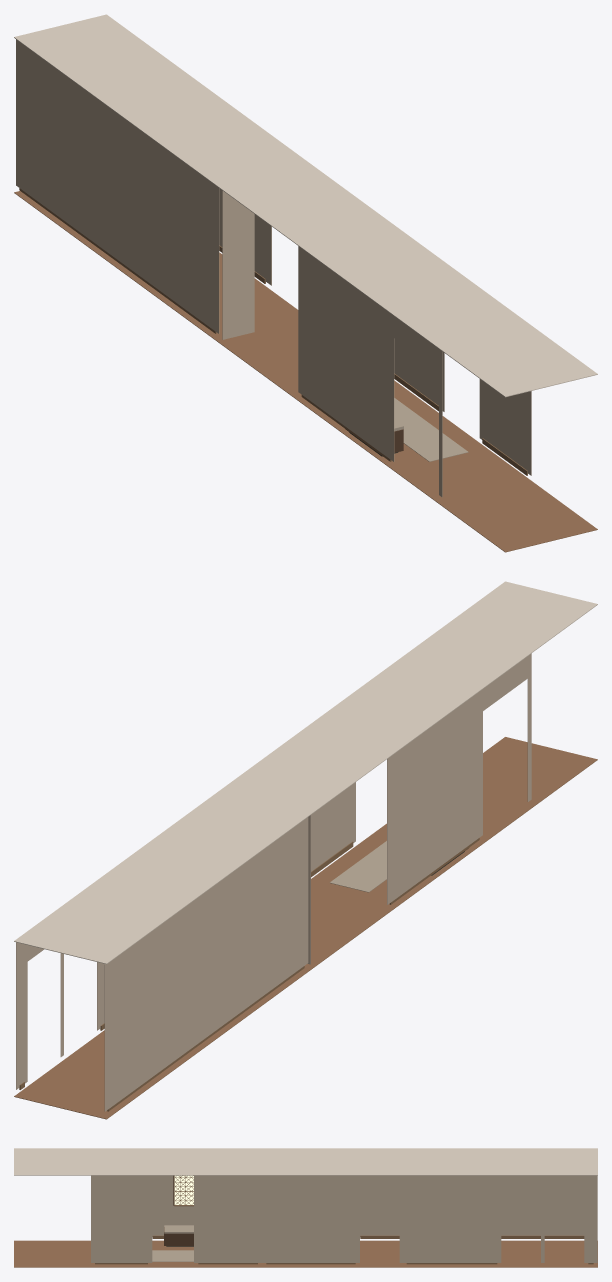
Rendered from corridor-3.glb.
The picture shows the model from 3 angles, top to bottom: view 1: azimuth 30°, elevation 25°; view 2: azimuth 150°, elevation 25°; view 3: azimuth 270°, elevation 25°; orthographic projection. The views are drawn at different scales.
Visible parts, largest first — view 1: DESIGN | Entrance coordinated ceiling, DESIGN | Entrance paired wall finish, DESIGN | Entrance floor finish, DESIGN | Entrance paired wall finish.003, DESIGN | Arch approach finish, DESIGN | Entrance paired wall finish.013, DESIGN | Entrance quiet runner, DESIGN | Entrance paired wall finish.012, DESIGN | Entrance paired wall finish.006, DESIGN | Entrance paired wall finish.002; view 2: DESIGN | Entrance coordinated ceiling, DESIGN | Entrance paired wall finish, DESIGN | Entrance floor finish, DESIGN | Entrance paired wall finish.003, DESIGN | Entrance paired wall finish.012, DESIGN | Entrance paired wall finish.005, DESIGN | Entrance quiet runner, DESIGN | Entrance paired wall finish.002, DESIGN | Entrance paired wall finish.001; view 3: DESIGN | Entrance coordinated ceiling, DESIGN | Entrance paired wall finish.006, DESIGN | Entrance paired wall finish.009, DESIGN | Entrance floor finish, DESIGN | Entrance paired wall finish.012, DESIGN | Entrance paired wall finish, DESIGN | Entrance paired wall finish.013, DESIGN | Entrance paired wall finish.003, DESIGN | Entrance paired wall finish.005, DESIGN | Entrance paired wall finish.007, DESIGN | Entrance paired wall finish.010, DESIGN | Entrance paired wall finish.004 (+8 smaller).
Part boxes in pixels (x1=…): DESIGN | Entrance coordinated ceiling: x1=14, y1=14, x2=597, y2=397; DESIGN | Entrance paired wall finish: x1=16, y1=39, x2=219, y2=333; DESIGN | Entrance floor finish: x1=14, y1=191, x2=597, y2=552; DESIGN | Entrance paired wall finish.003: x1=298, y1=246, x2=394, y2=461; DESIGN | Arch approach finish: x1=222, y1=190, x2=254, y2=339; DESIGN | Entrance paired wall finish.013: x1=479, y1=379, x2=531, y2=475; DESIGN | Entrance quiet runner: x1=394, y1=398, x2=468, y2=461; DESIGN | Entrance paired wall finish.012: x1=394, y1=339, x2=444, y2=411; DESIGN | Entrance paired wall finish.006: x1=219, y1=188, x2=268, y2=283; DESIGN | Entrance paired wall finish.002: x1=394, y1=316, x2=438, y2=370; DESIGN | Entrance coordinated ceiling: x1=14, y1=581, x2=597, y2=964; DESIGN | Entrance paired wall finish: x1=104, y1=817, x2=308, y2=1111; DESIGN | Entrance floor finish: x1=14, y1=737, x2=597, y2=1119; DESIGN | Entrance paired wall finish.003: x1=387, y1=689, x2=482, y2=904; DESIGN | Entrance paired wall finish.012: x1=311, y1=782, x2=355, y2=871; DESIGN | Entrance paired wall finish.005: x1=16, y1=942, x2=27, y2=1089; DESIGN | Entrance quiet runner: x1=329, y1=841, x2=386, y2=892; DESIGN | Entrance paired wall finish.002: x1=483, y1=656, x2=527, y2=710; DESIGN | Entrance paired wall finish.001: x1=527, y1=653, x2=531, y2=801; DESIGN | Entrance coordinated ceiling: x1=14, y1=1148, x2=597, y2=1175; DESIGN | Entrance paired wall finish.006: x1=402, y1=1175, x2=501, y2=1262; DESIGN | Entrance paired wall finish.009: x1=262, y1=1175, x2=359, y2=1262; DESIGN | Entrance floor finish: x1=14, y1=1240, x2=597, y2=1267; DESIGN | Entrance paired wall finish.012: x1=194, y1=1175, x2=262, y2=1262; DESIGN | Entrance paired wall finish: x1=360, y1=1176, x2=584, y2=1236; DESIGN | Entrance paired wall finish.013: x1=91, y1=1175, x2=152, y2=1262; DESIGN | Entrance paired wall finish.003: x1=152, y1=1175, x2=193, y2=1236; DESIGN | Entrance paired wall finish.005: x1=584, y1=1175, x2=597, y2=1262; DESIGN | Entrance paired wall finish.007: x1=501, y1=1175, x2=540, y2=1191; DESIGN | Entrance paired wall finish.010: x1=360, y1=1175, x2=399, y2=1191; DESIGN | Entrance paired wall finish.004: x1=545, y1=1175, x2=584, y2=1191.
Size of the model in its own units: 1.7 by 2.73 by 15.61.
